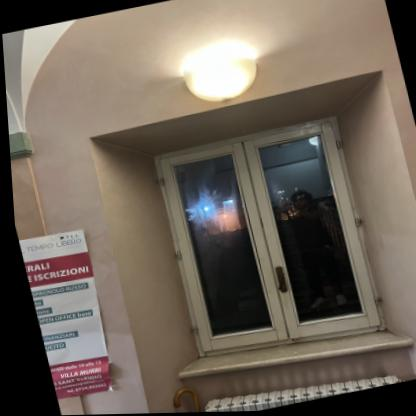Window: (134, 119, 380, 367)
